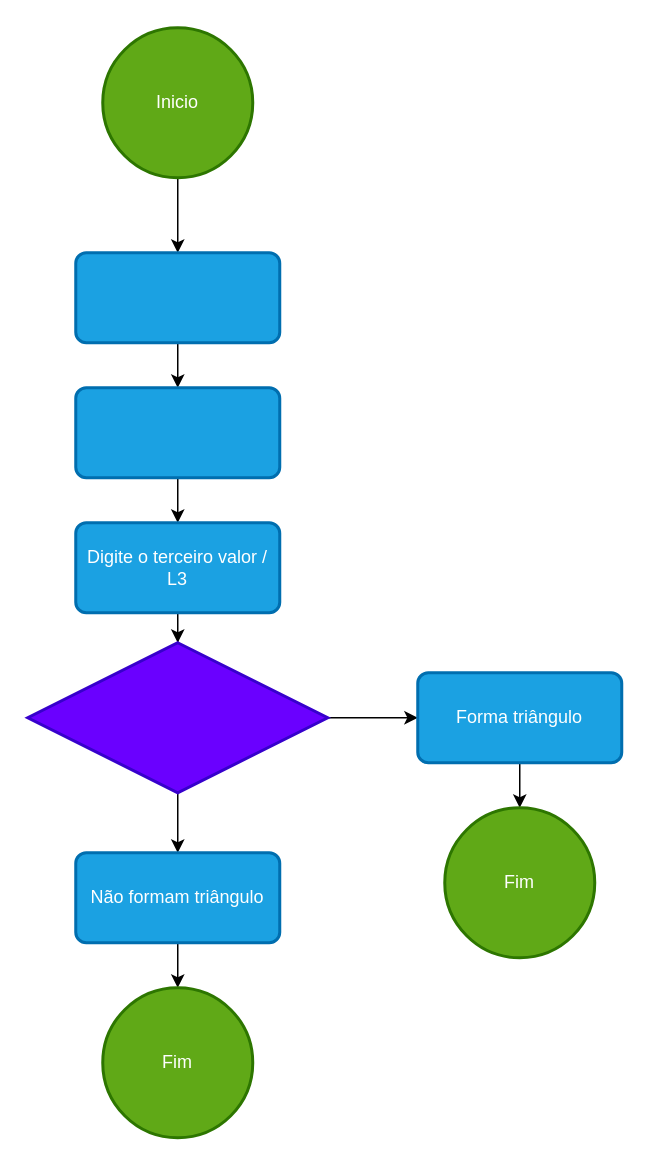
Image size: 648x1164. Some labels were removed from this diagram. The centre of each missing label's shape, as x and y in pixels:
"Digite o primeiro valor / L1" goes at point (177, 297).
"Digite o segundo valor / L2" goes at point (177, 432).
"Formam triângulo?" goes at point (177, 717).
